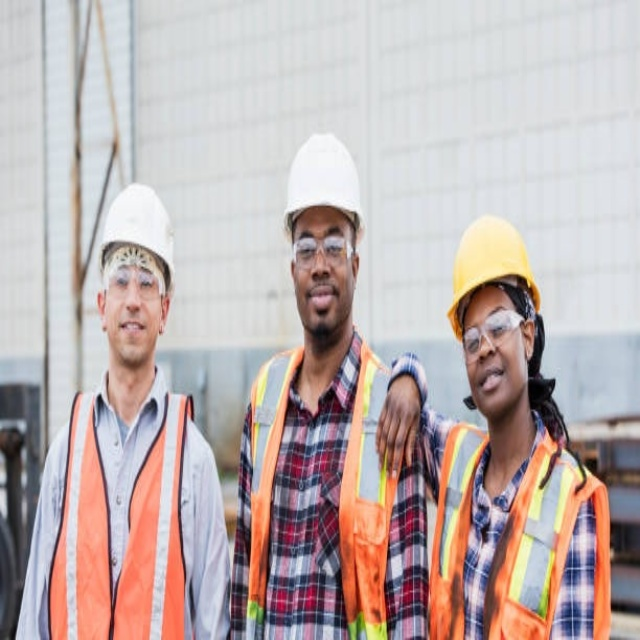Gafas: (461, 309, 527, 362), (104, 265, 166, 302), (292, 235, 355, 267)
Sin_guantes: (375, 371, 423, 473)
Sin_mascara: (115, 309, 148, 362), (473, 362, 507, 410), (302, 280, 340, 322)
